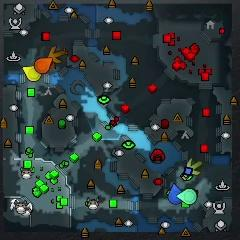p1: (168, 183, 183, 204)
p2: (177, 188, 196, 205)
p4: (22, 65, 42, 81)
p5: (35, 57, 52, 74)
x2: (186, 158, 202, 175)
x5: (48, 45, 67, 64)
